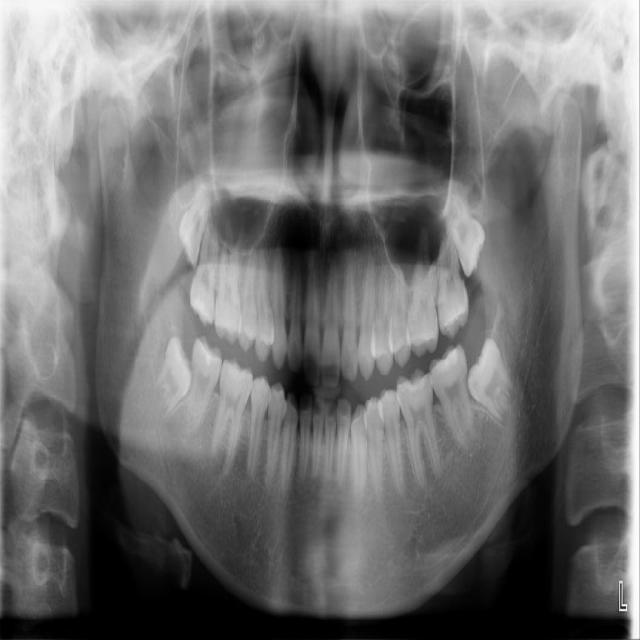impacted tooth: (444, 182, 482, 271), (180, 180, 207, 265)
